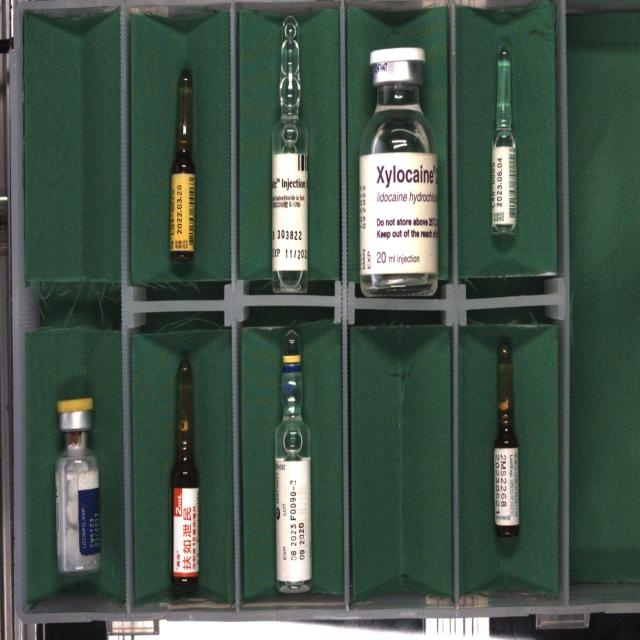Vials: (359, 47, 438, 296), (56, 397, 101, 575)
